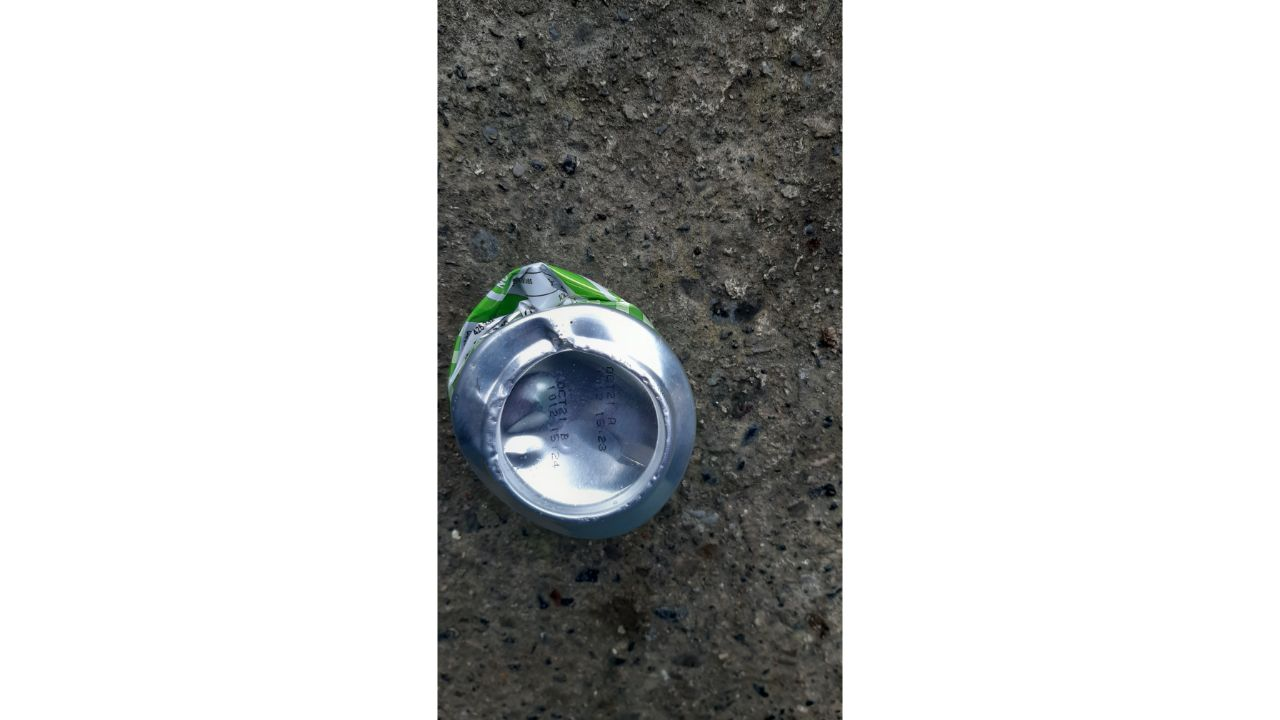Can: (446, 261, 696, 542)
